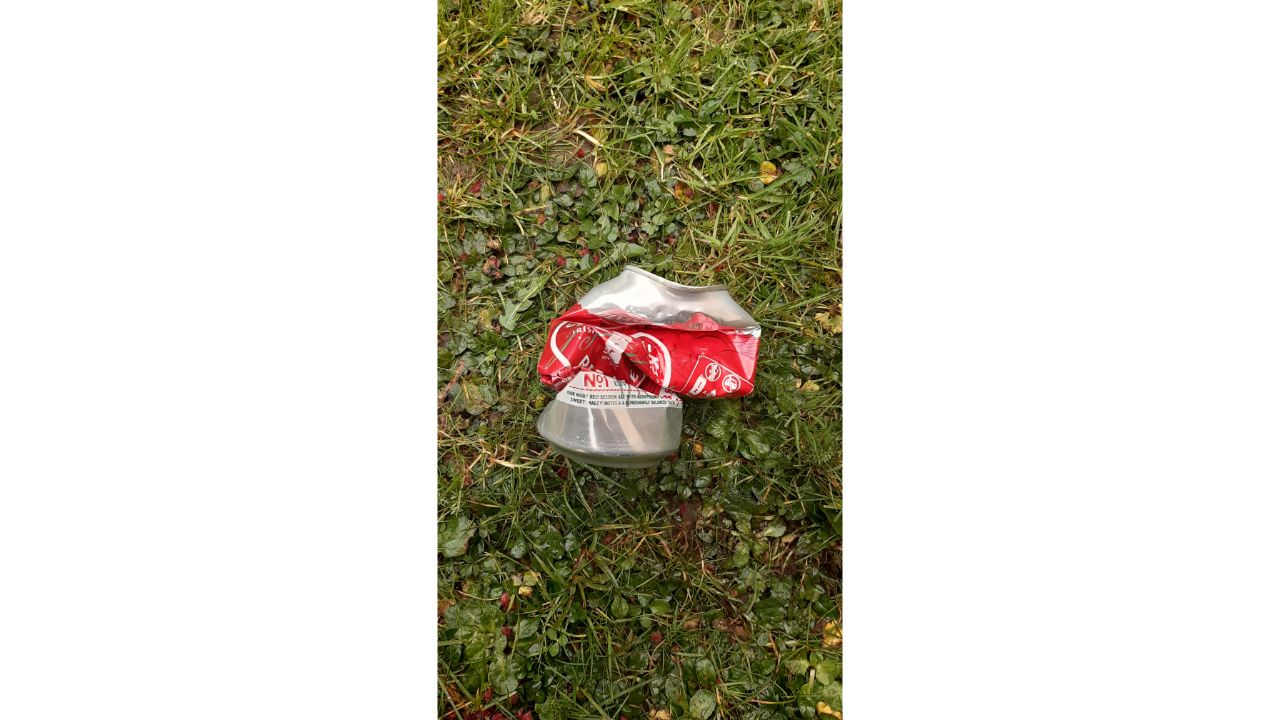Can: (536, 265, 764, 470)
